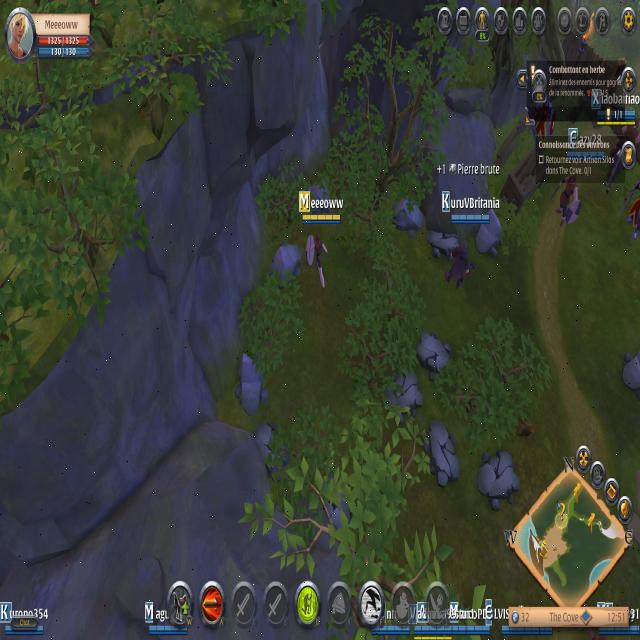broken stone: (475, 438, 520, 514), (422, 412, 462, 494), (382, 364, 422, 428), (416, 325, 458, 384), (256, 424, 291, 484), (424, 220, 463, 264)
stone: (232, 350, 269, 418), (264, 239, 304, 293), (472, 204, 505, 262), (388, 191, 423, 240), (622, 347, 640, 395)
